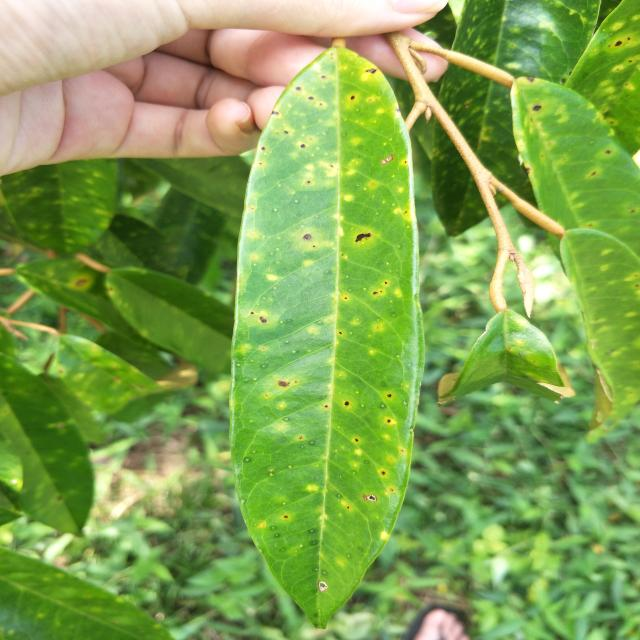Leaf Spot: (294, 220, 402, 329), (258, 368, 420, 435), (268, 445, 436, 507), (288, 83, 399, 166)
